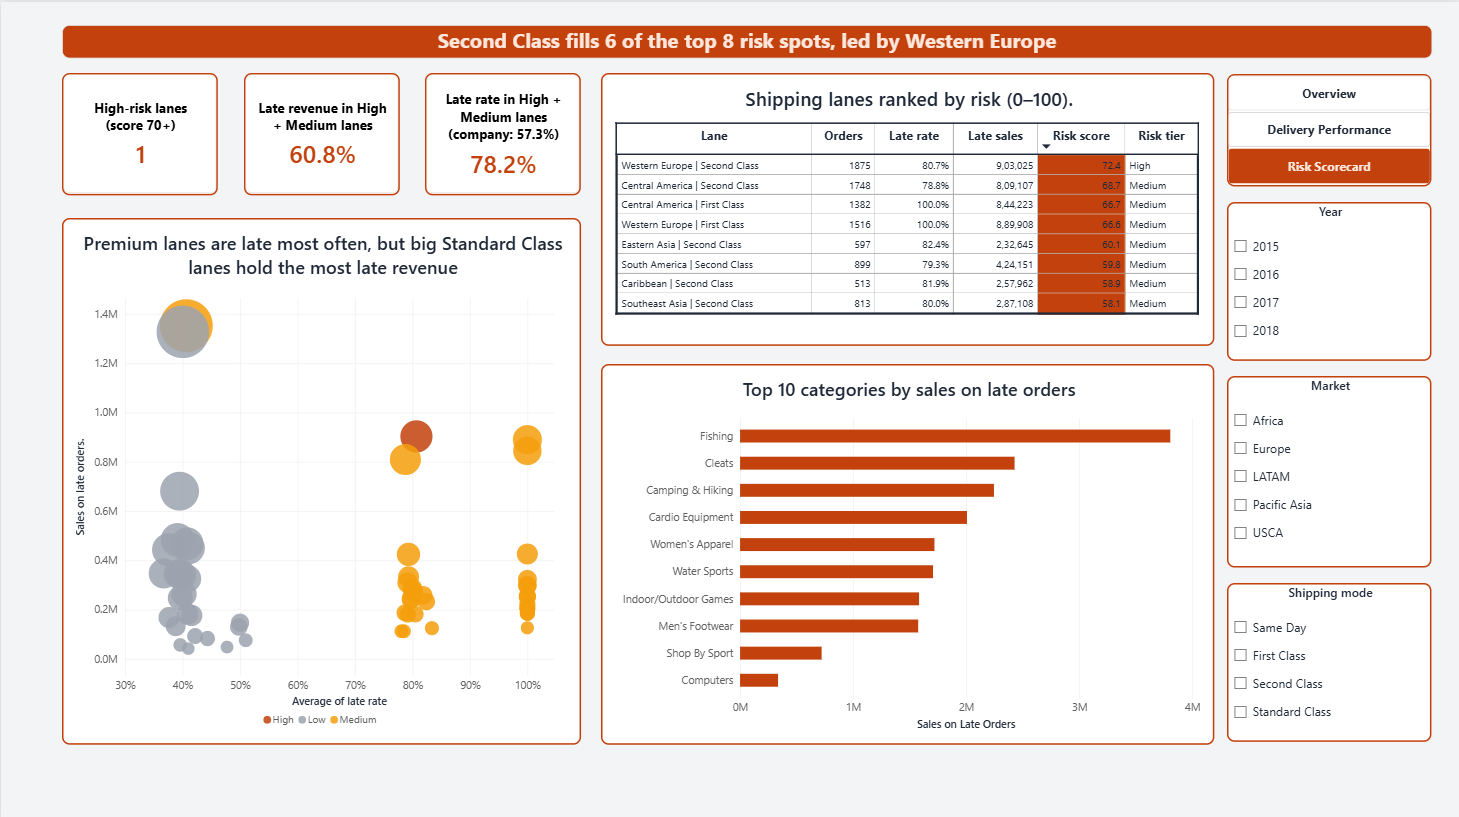

This screenshot's page, from the dashboard's own definition file:
{"tool":"powerbi","page":{"name":"Risk Scorecard","canvas":[1920,1080],"ordinal":2},"visuals":[{"type":"textbox","box":[80.3,29.9,1803,43.5],"z":0},{"type":"cardVisual","fields":{"Data":["_Measures.High Risk Lanes"]},"box":[80.3,93.9,205.5,160.6],"z":1000},{"type":"tableEx","title":"Shipping lanes ranked by risk (0–100).","fields":{"Values":["lane_risk.lane","lane_risk.orders","lane_risk.late_rate","lane_risk.late_sales","lane_risk.risk_score","lane_risk.risk_tier"]},"box":[789.2,93.9,806.9,359.2],"z":2000},{"type":"clusteredBarChart","title":"Top 10 categories by sales on late orders","fields":{"Category":["dim_category.category_name"],"Y":["_Measures.Sales on Late Orders"]},"box":[789.2,476.3,806.9,500.8],"z":3000},{"type":"scatterChart","title":"Premium lanes are late most often, but big Standard Class lanes hold the most late revenue","fields":{"Category":["lane_risk.lane"],"Series":["lane_risk.risk_tier"],"Size":["Sum(lane_risk.sales)"],"X":["lane_risk.late_rate"],"Y":["lane_risk.late_sales"]},"box":[80.3,284.4,683.1,692.6],"z":4000},{"type":"cardVisual","fields":{"Data":["_Measures.Priority Lane Late Rate 2"]},"box":[557.9,93.9,205.5,160.6],"z":5000},{"type":"cardVisual","fields":{"Data":["_Measures.% Late Sales in Priority Lanes"]},"box":[319.1,93.9,205.5,160.6],"z":6000},{"type":"slicer","title":"Year","fields":{"Values":["dim_date.Year"]},"box":[1613.4,263.2,268.8,208.5],"z":7000},{"type":"slicer","title":"Market","fields":{"Values":["dim_region.market"]},"box":[1613.4,492.2,268.8,251.8],"z":8000},{"type":"slicer","title":"Shipping mode","fields":{"Values":["dim_shipping_mode.shipping_mode"]},"box":[1613.4,764.4,268.8,208.5],"z":9000},{"type":"pageNavigator","box":[1613.4,94.3,269.1,148.4],"z":10000}]}

Visuals, with their boxes in screenshot pixels (x1, y1, x2, y2), scaled from the page's 1920x1080 canvas onto the 1459x817 screenshot:
textbox: region(61, 23, 1431, 56)
cardVisual - _Measures.High Risk Lanes: region(61, 71, 217, 193)
"Shipping lanes ranked by risk (0–100)." tableEx: region(600, 71, 1213, 343)
"Top 10 categories by sales on late orders" clusteredBarChart: region(600, 360, 1213, 739)
"Premium lanes are late most often, but big Standard Class lanes hold the most late revenue" scatterChart: region(61, 215, 580, 739)
cardVisual - _Measures.Priority Lane Late Rate 2: region(424, 71, 580, 193)
cardVisual - _Measures.% Late Sales in Priority Lanes: region(242, 71, 399, 193)
"Year" slicer: region(1226, 199, 1430, 357)
"Market" slicer: region(1226, 372, 1430, 563)
"Shipping mode" slicer: region(1226, 578, 1430, 736)
pageNavigator: region(1226, 71, 1431, 184)
